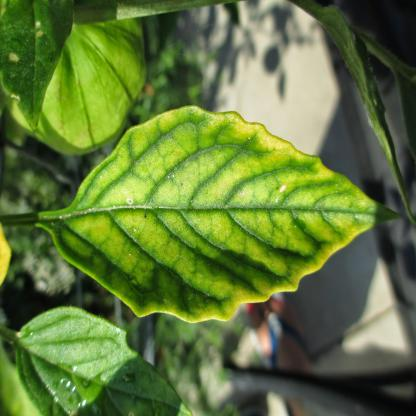bell pepper leaf: (46, 105, 404, 321)
